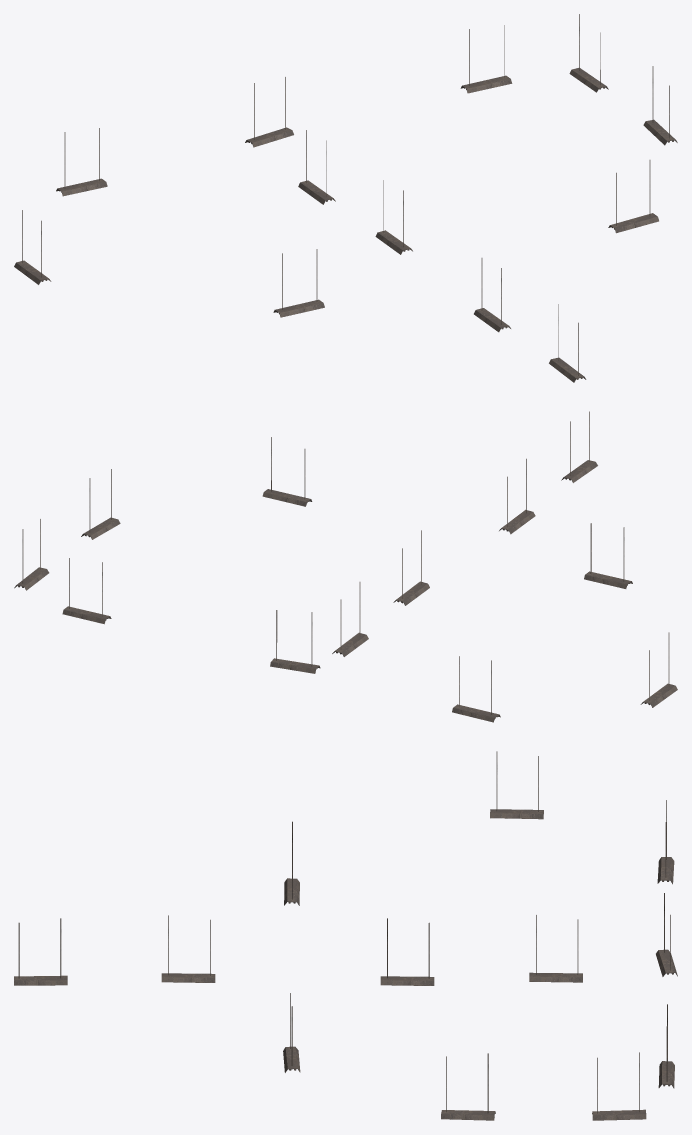
Rendered from Corridor_01_13.fbx.
3 renders of one model, top to bottom at view 1: azimuth 30°, elevation 25°; view 2: azimuth 150°, elevation 25°; view 3: azimuth 270°, elevation 25°, orthographic. The views are drawn at different scales.
Parts seen in each view (by area): view 1: Corridor_01_13; view 2: Corridor_01_13; view 3: Corridor_01_13.
Boxes of the visible parts, x1=… form: Corridor_01_13: x1=14, y1=14, x2=677, y2=382; Corridor_01_13: x1=14, y1=411, x2=677, y2=722; Corridor_01_13: x1=14, y1=751, x2=677, y2=1120.
Size of the model in its own units: 3432 by 413 by 3023.
